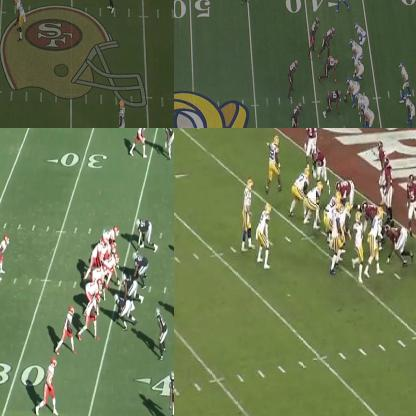CENTER: (324, 192, 340, 224), (106, 254, 118, 289), (344, 76, 354, 103)
DB: (0, 238, 8, 279), (304, 128, 318, 149), (374, 140, 387, 161), (165, 128, 173, 159), (117, 101, 126, 127), (168, 376, 173, 415), (107, 0, 115, 12)
LB: (380, 159, 397, 211), (156, 306, 167, 360), (406, 168, 415, 229), (309, 18, 320, 54), (290, 61, 300, 97), (13, 0, 23, 34), (291, 101, 302, 127)
QB: (241, 178, 255, 252), (88, 241, 102, 278), (398, 64, 407, 98)
SKILL: (256, 203, 272, 271), (266, 134, 282, 192), (41, 360, 58, 414), (61, 306, 76, 352), (355, 211, 364, 282), (131, 128, 148, 156), (373, 207, 379, 271), (405, 96, 415, 127), (356, 23, 366, 46), (335, 0, 350, 11)
